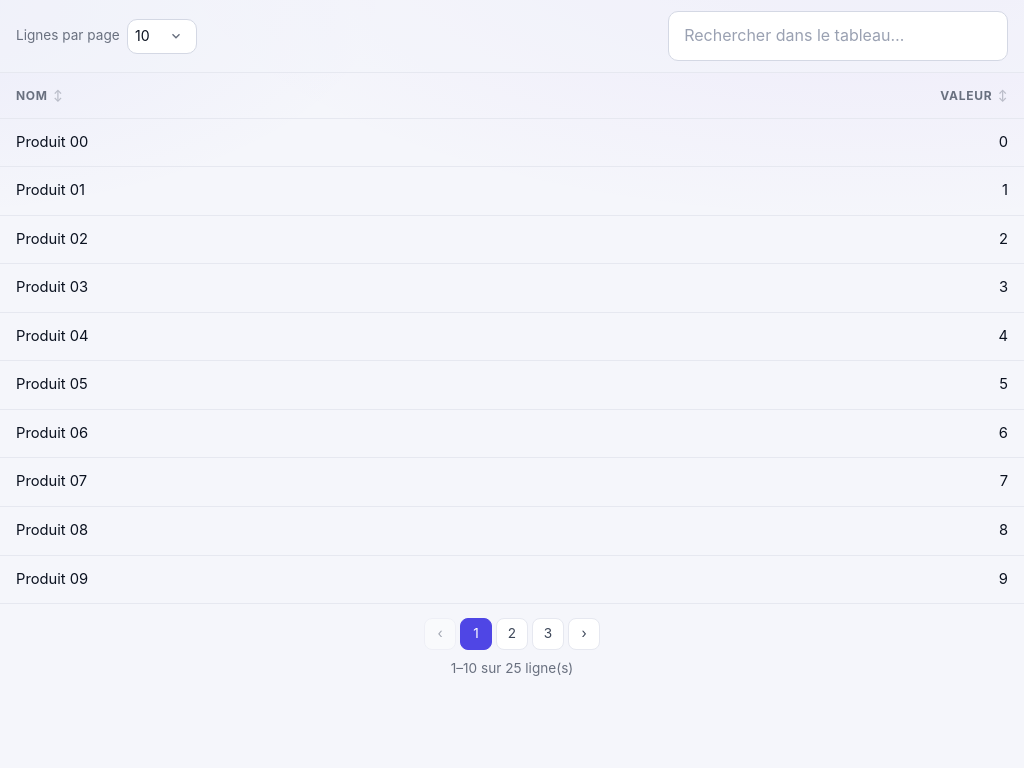
DataTable › change de page avec les boutons de pagination
Step 1. Click the button named "Page suivante" → [584, 634], box [568,618,600,650]
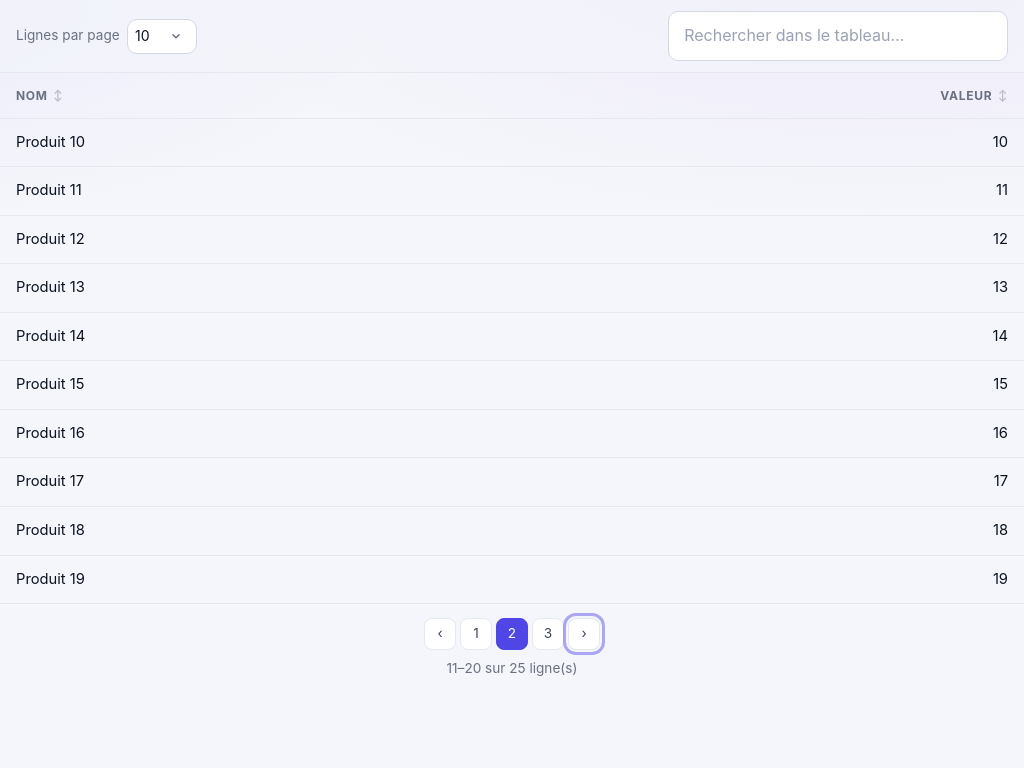
Check: the text "11–20 sur 25 ligne(s)" is shown, box [447,658,578,680]
Check: the row "Produit 10 10" is shown, box [0,118,1023,167]
